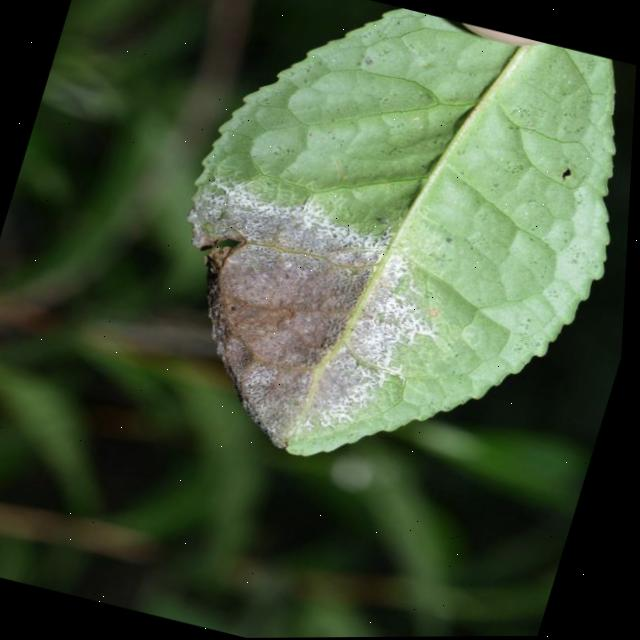Tea exobasidium blight: (142, 175, 465, 478)
